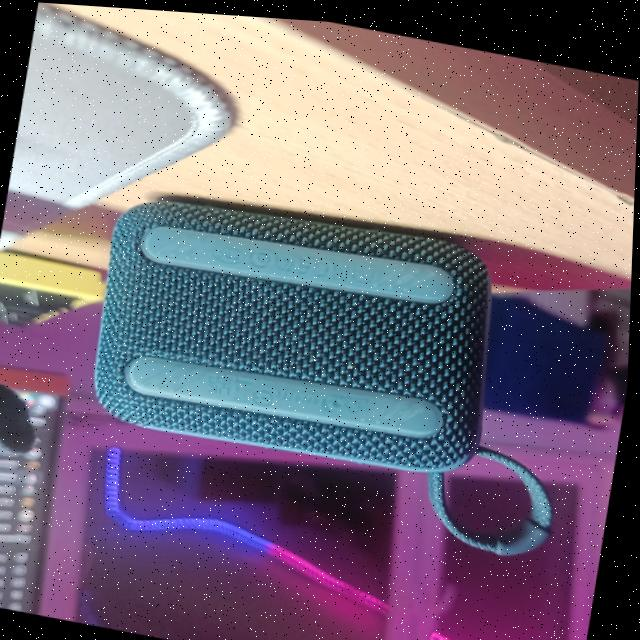column JBL: (45, 153, 597, 560)
